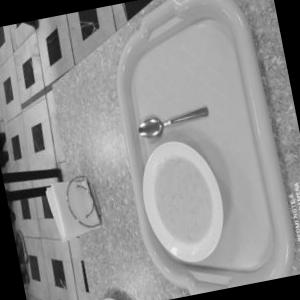porridge: (136, 140, 234, 262)
